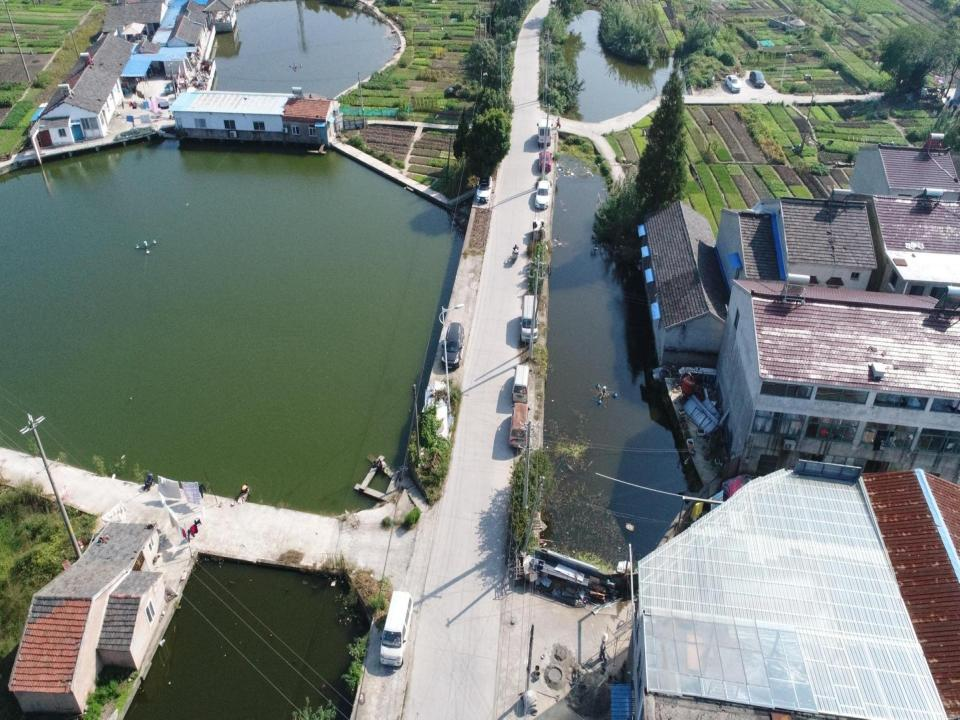car: (441, 322, 464, 370), (476, 174, 492, 203), (534, 180, 550, 208), (749, 70, 766, 88), (538, 151, 552, 172), (725, 75, 741, 92)
van: (380, 591, 414, 667), (509, 402, 531, 450), (520, 295, 539, 343), (512, 364, 531, 404), (537, 118, 553, 146)
